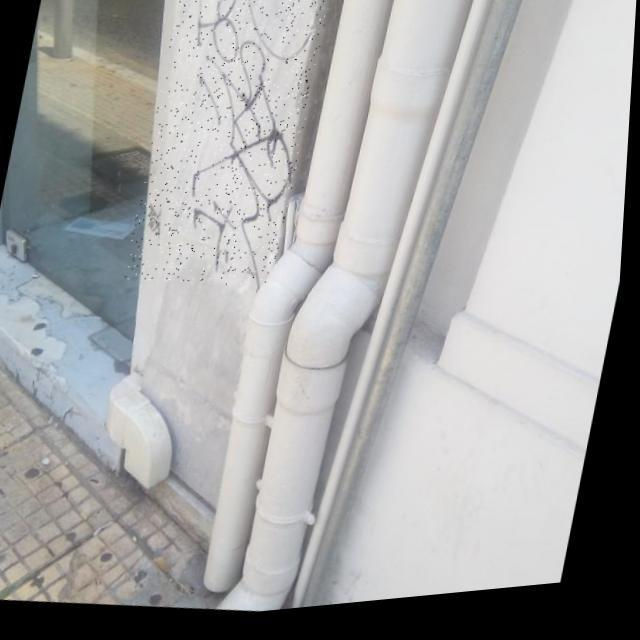-: (126, 0, 336, 304)
